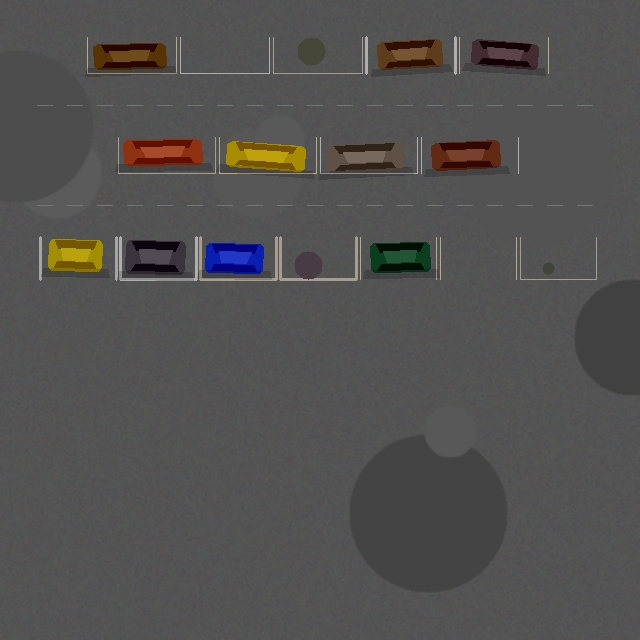space-empty: (180, 37, 269, 73), (273, 37, 362, 73), (280, 237, 356, 279), (440, 237, 516, 279), (520, 237, 596, 279)
space-occupied: (118, 137, 215, 173), (219, 137, 316, 173), (320, 137, 417, 173), (421, 137, 518, 173), (87, 37, 176, 73), (366, 37, 455, 73), (459, 37, 548, 73), (40, 237, 116, 279), (120, 237, 196, 279), (200, 237, 276, 279), (360, 237, 436, 279)
